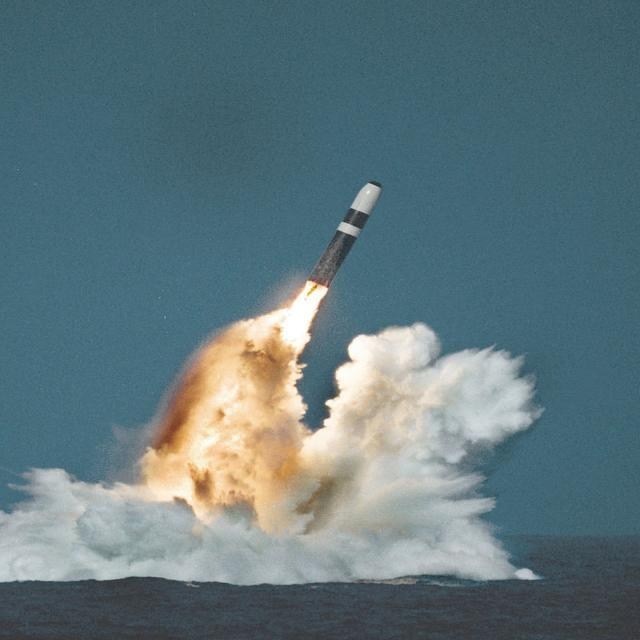missile: (306, 178, 382, 286)
